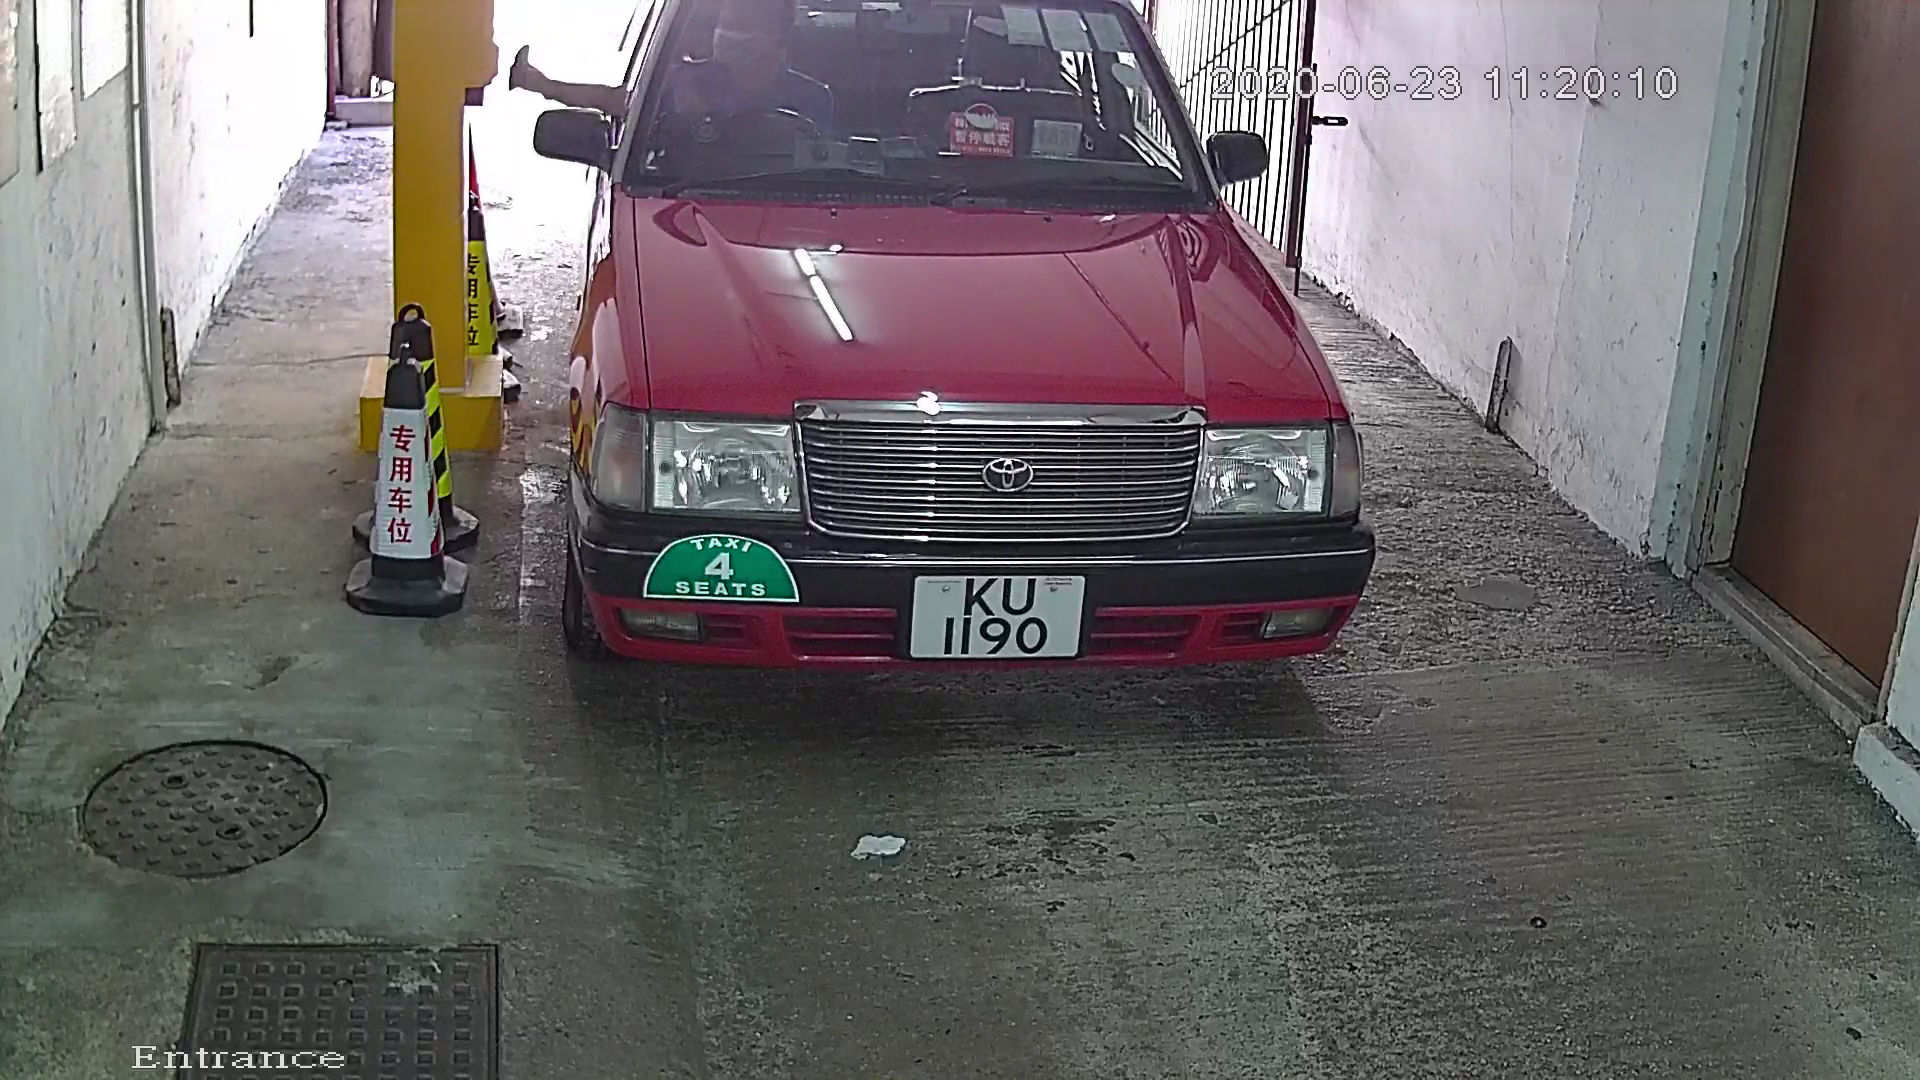taxi: (489, 3, 1415, 756)
taxi_mark: (616, 492, 843, 636)
